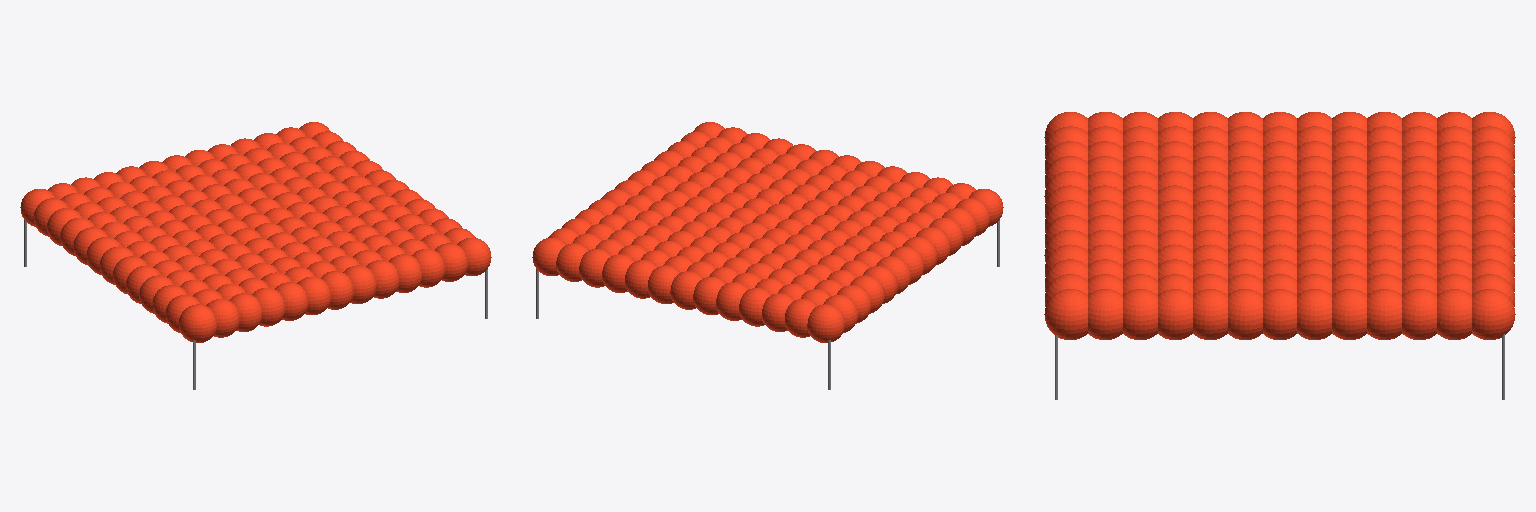
--- Facts derived from the render (not from the file) ---
Views: 3 orthographic renders of the robot side by side, from view 1: azimuth 30°, elevation 25°; view 2: azimuth 150°, elevation 25°; view 3: azimuth 270°, elevation 25°.
Robot: box — 3 links, 2 joints (2 fixed); root link link1; default pose: all joints at 0.
Links seen in each view (by area): view 1: link3; view 2: link3; view 3: link3.
Link boxes in pixels (x1,y1,x2,y2): link3: [20, 122, 491, 342]; link3: [532, 122, 1003, 342]; link3: [1044, 112, 1515, 339].
Size in the robot's own frame: 1.35 by 1.35 by 0.324 metres.
Geometry: primitives only (box / cylinder / sphere), no mesh files.

URDF robot description (box):
<?xml version="1.0" ?>
<robot name="box">

    <material name="panda_white">
        <color rgba="1. 0.87 0.68 1."/>
    </material>

    <material name="metal">
        <color rgba="0.6 0.6 0.6 1."/>
    </material>

    <material name="orangered">
        <color rgba="1 0.34 0.2 0.5"/>
    </material>


    <link name="link1">
        <inertial>
            <origin rpy="0 0 0" xyz="0 0 0"/>
            <mass value=".0"/>
            <inertia ixx="0" ixy="0" ixz="0" iyy="0" iyz="0" izz="0"/>
        </inertial>

        <visual>
            <origin rpy="0 0 0" xyz="0.0 0 0.25"/>
            <geometry>
                <box size="1.3 1.3 0.005"/>
            </geometry>
            <material name="panda_white"/>
        </visual>
    </link>

    <link name="link2">
        <inertial>
            <origin rpy="0 0 0" xyz="0 0 0"/>
            <mass value=".0"/>
            <inertia ixx="0" ixy="0" ixz="0" iyy="0" iyz="0" izz="0"/>
        </inertial>

        <visual>
            <origin rpy="0 0 0" xyz="0.64 0.64 0.125"/>
            <geometry>
                <cylinder radius="0.005" length="0.25"/>
            </geometry>
            <material name="metal"/>
        </visual>

        <visual>
            <origin rpy="0 0 0" xyz="0.64 -0.64 0.125"/>
            <geometry>
                <cylinder radius="0.005" length="0.25"/>
            </geometry>
            <material name="metal"/>
        </visual>

        <visual>
            <origin rpy="0 0 0" xyz="-0.64 0.64 0.125"/>
            <geometry>
                <cylinder radius="0.005" length="0.25"/>
            </geometry>
            <material name="metal"/>
        </visual>

        <visual>
            <origin rpy="0 0 0" xyz="-0.64 -0.64 0.125"/>
            <geometry>
                <cylinder radius="0.005" length="0.25"/>
            </geometry>
            <material name="metal"/>
        </visual>

    </link>
    

    <link name="link3">
        <inertial>
            <origin rpy="0 0 0" xyz="0 0 0"/>
            <mass value=".0"/>
            <inertia ixx="0" ixy="0" ixz="0" iyy="0" iyz="0" izz="0"/>
        </inertial>

        <visual>
            <origin rpy="0 0 0" xyz="-0.6 -0.6 0.25"/>
            <geometry>
                <sphere radius="0.074"/>
            </geometry>
            <material name="orangered"/>
        </visual>

        <visual>
            <origin rpy="0 0 0" xyz="-0.5 -0.6 0.25"/>
            <geometry>
                <sphere radius="0.074"/>
            </geometry>
            <material name="orangered"/>
        </visual>

        <visual>
            <origin rpy="0 0 0" xyz="-0.4 -0.6 0.25"/>
            <geometry>
                <sphere radius="0.074"/>
            </geometry>
            <material name="orangered"/>
        </visual>

        <visual>
            <origin rpy="0 0 0" xyz="-0.3 -0.6 0.25"/>
            <geometry>
                <sphere radius="0.074"/>
            </geometry>
            <material name="orangered"/>
        </visual>

        <visual>
            <origin rpy="0 0 0" xyz="-0.2 -0.6 0.25"/>
            <geometry>
                <sphere radius="0.074"/>
            </geometry>
            <material name="orangered"/>
        </visual>

        <visual>
            <origin rpy="0 0 0" xyz="-0.1 -0.6 0.25"/>
            <geometry>
                <sphere radius="0.074"/>
            </geometry>
            <material name="orangered"/>
        </visual>

        <visual>
            <origin rpy="0 0 0" xyz="0.0 -0.6 0.25"/>
            <geometry>
                <sphere radius="0.074"/>
            </geometry>
            <material name="orangered"/>
        </visual>

        <visual>
            <origin rpy="0 0 0" xyz="0.1 -0.6 0.25"/>
            <geometry>
                <sphere radius="0.074"/>
            </geometry>
            <material name="orangered"/>
        </visual>

        <visual>
            <origin rpy="0 0 0" xyz="0.2 -0.6 0.25"/>
            <geometry>
                <sphere radius="0.074"/>
            </geometry>
            <material name="orangered"/>
        </visual>

        <visual>
            <origin rpy="0 0 0" xyz="0.3 -0.6 0.25"/>
            <geometry>
                <sphere radius="0.074"/>
            </geometry>
            <material name="orangered"/>
        </visual>

        <visual>
            <origin rpy="0 0 0" xyz="0.4 -0.6 0.25"/>
            <geometry>
                <sphere radius="0.074"/>
            </geometry>
            <material name="orangered"/>
        </visual>

        <visual>
            <origin rpy="0 0 0" xyz="0.5 -0.6 0.25"/>
            <geometry>
                <sphere radius="0.074"/>
            </geometry>
            <material name="orangered"/>
        </visual>

        <visual>
            <origin rpy="0 0 0" xyz="0.6 -0.6 0.25"/>
            <geometry>
                <sphere radius="0.074"/>
            </geometry>
            <material name="orangered"/>
        </visual>

        <visual>
            <origin rpy="0 0 0" xyz="-0.6 -0.5 0.25"/>
            <geometry>
                <sphere radius="0.074"/>
            </geometry>
            <material name="orangered"/>
        </visual>

        <visual>
            <origin rpy="0 0 0" xyz="-0.5 -0.5 0.25"/>
            <geometry>
                <sphere radius="0.074"/>
            </geometry>
            <material name="orangered"/>
        </visual>

        <visual>
            <origin rpy="0 0 0" xyz="-0.4 -0.5 0.25"/>
            <geometry>
                <sphere radius="0.074"/>
            </geometry>
            <material name="orangered"/>
        </visual>

        <visual>
            <origin rpy="0 0 0" xyz="-0.3 -0.5 0.25"/>
            <geometry>
                <sphere radius="0.074"/>
            </geometry>
            <material name="orangered"/>
        </visual>

        <visual>
            <origin rpy="0 0 0" xyz="-0.2 -0.5 0.25"/>
            <geometry>
                <sphere radius="0.074"/>
            </geometry>
            <material name="orangered"/>
        </visual>

        <visual>
            <origin rpy="0 0 0" xyz="-0.1 -0.5 0.25"/>
            <geometry>
                <sphere radius="0.074"/>
            </geometry>
            <material name="orangered"/>
        </visual>

        <visual>
            <origin rpy="0 0 0" xyz="0.0 -0.5 0.25"/>
            <geometry>
                <sphere radius="0.074"/>
            </geometry>
            <material name="orangered"/>
        </visual>

        <visual>
            <origin rpy="0 0 0" xyz="0.1 -0.5 0.25"/>
            <geometry>
                <sphere radius="0.074"/>
            </geometry>
            <material name="orangered"/>
        </visual>

        <visual>
            <origin rpy="0 0 0" xyz="0.2 -0.5 0.25"/>
            <geometry>
                <sphere radius="0.074"/>
            </geometry>
            <material name="orangered"/>
        </visual>

        <visual>
            <origin rpy="0 0 0" xyz="0.3 -0.5 0.25"/>
            <geometry>
                <sphere radius="0.074"/>
            </geometry>
            <material name="orangered"/>
        </visual>

        <visual>
            <origin rpy="0 0 0" xyz="0.4 -0.5 0.25"/>
            <geometry>
                <sphere radius="0.074"/>
            </geometry>
            <material name="orangered"/>
        </visual>

        <visual>
            <origin rpy="0 0 0" xyz="0.5 -0.5 0.25"/>
            <geometry>
                <sphere radius="0.074"/>
            </geometry>
            <material name="orangered"/>
        </visual>

        <visual>
            <origin rpy="0 0 0" xyz="0.6 -0.5 0.25"/>
            <geometry>
                <sphere radius="0.074"/>
            </geometry>
            <material name="orangered"/>
        </visual>

        <visual>
            <origin rpy="0 0 0" xyz="-0.6 -0.4 0.25"/>
            <geometry>
                <sphere radius="0.074"/>
            </geometry>
            <material name="orangered"/>
        </visual>

        <visual>
            <origin rpy="0 0 0" xyz="-0.5 -0.4 0.25"/>
            <geometry>
                <sphere radius="0.074"/>
            </geometry>
            <material name="orangered"/>
        </visual>

        <visual>
            <origin rpy="0 0 0" xyz="-0.4 -0.4 0.25"/>
            <geometry>
                <sphere radius="0.074"/>
            </geometry>
            <material name="orangered"/>
        </visual>

        <visual>
            <origin rpy="0 0 0" xyz="-0.3 -0.4 0.25"/>
            <geometry>
                <sphere radius="0.074"/>
            </geometry>
            <material name="orangered"/>
        </visual>

        <visual>
            <origin rpy="0 0 0" xyz="-0.2 -0.4 0.25"/>
            <geometry>
                <sphere radius="0.074"/>
            </geometry>
            <material name="orangered"/>
        </visual>

        <visual>
            <origin rpy="0 0 0" xyz="-0.1 -0.4 0.25"/>
            <geometry>
                <sphere radius="0.074"/>
            </geometry>
            <material name="orangered"/>
        </visual>

        <visual>
            <origin rpy="0 0 0" xyz="0.0 -0.4 0.25"/>
            <geometry>
                <sphere radius="0.074"/>
            </geometry>
            <material name="orangered"/>
        </visual>

        <visual>
            <origin rpy="0 0 0" xyz="0.1 -0.4 0.25"/>
            <geometry>
                <sphere radius="0.074"/>
            </geometry>
            <material name="orangered"/>
        </visual>

        <visual>
            <origin rpy="0 0 0" xyz="0.2 -0.4 0.25"/>
            <geometry>
                <sphere radius="0.074"/>
            </geometry>
            <material name="orangered"/>
        </visual>

        <visual>
            <origin rpy="0 0 0" xyz="0.3 -0.4 0.25"/>
            <geometry>
                <sphere radius="0.074"/>
            </geometry>
            <material name="orangered"/>
        </visual>

        <visual>
            <origin rpy="0 0 0" xyz="0.4 -0.4 0.25"/>
            <geometry>
                <sphere radius="0.074"/>
            </geometry>
            <material name="orangered"/>
        </visual>

        <visual>
            <origin rpy="0 0 0" xyz="0.5 -0.4 0.25"/>
            <geometry>
                <sphere radius="0.074"/>
            </geometry>
            <material name="orangered"/>
        </visual>

        <visual>
            <origin rpy="0 0 0" xyz="0.6 -0.4 0.25"/>
            <geometry>
                <sphere radius="0.074"/>
            </geometry>
            <material name="orangered"/>
        </visual>

        <visual>
            <origin rpy="0 0 0" xyz="-0.6 -0.3 0.25"/>
            <geometry>
                <sphere radius="0.074"/>
            </geometry>
            <material name="orangered"/>
        </visual>

        <visual>
            <origin rpy="0 0 0" xyz="-0.5 -0.3 0.25"/>
            <geometry>
                <sphere radius="0.074"/>
            </geometry>
            <material name="orangered"/>
        </visual>

        <visual>
            <origin rpy="0 0 0" xyz="-0.4 -0.3 0.25"/>
            <geometry>
                <sphere radius="0.074"/>
            </geometry>
            <material name="orangered"/>
        </visual>

        <visual>
            <origin rpy="0 0 0" xyz="-0.3 -0.3 0.25"/>
            <geometry>
                <sphere radius="0.074"/>
            </geometry>
            <material name="orangered"/>
        </visual>

        <visual>
            <origin rpy="0 0 0" xyz="-0.2 -0.3 0.25"/>
            <geometry>
                <sphere radius="0.074"/>
            </geometry>
            <material name="orangered"/>
        </visual>

        <visual>
            <origin rpy="0 0 0" xyz="-0.1 -0.3 0.25"/>
            <geometry>
                <sphere radius="0.074"/>
            </geometry>
            <material name="orangered"/>
        </visual>

        <visual>
            <origin rpy="0 0 0" xyz="0.0 -0.3 0.25"/>
            <geometry>
                <sphere radius="0.074"/>
            </geometry>
            <material name="orangered"/>
        </visual>

        <visual>
            <origin rpy="0 0 0" xyz="0.1 -0.3 0.25"/>
            <geometry>
                <sphere radius="0.074"/>
            </geometry>
            <material name="orangered"/>
        </visual>

        <visual>
            <origin rpy="0 0 0" xyz="0.2 -0.3 0.25"/>
            <geometry>
                <sphere radius="0.074"/>
            </geometry>
            <material name="orangered"/>
        </visual>

        <visual>
            <origin rpy="0 0 0" xyz="0.3 -0.3 0.25"/>
            <geometry>
                <sphere radius="0.074"/>
            </geometry>
            <material name="orangered"/>
        </visual>

        <visual>
            <origin rpy="0 0 0" xyz="0.4 -0.3 0.25"/>
            <geometry>
                <sphere radius="0.074"/>
            </geometry>
            <material name="orangered"/>
        </visual>

        <visual>
            <origin rpy="0 0 0" xyz="0.5 -0.3 0.25"/>
            <geometry>
                <sphere radius="0.074"/>
            </geometry>
            <material name="orangered"/>
        </visual>

        <visual>
            <origin rpy="0 0 0" xyz="0.6 -0.3 0.25"/>
            <geometry>
                <sphere radius="0.074"/>
            </geometry>
            <material name="orangered"/>
        </visual>

        <visual>
            <origin rpy="0 0 0" xyz="-0.6 -0.2 0.25"/>
            <geometry>
                <sphere radius="0.074"/>
            </geometry>
            <material name="orangered"/>
        </visual>

        <visual>
            <origin rpy="0 0 0" xyz="-0.5 -0.2 0.25"/>
            <geometry>
                <sphere radius="0.074"/>
            </geometry>
            <material name="orangered"/>
        </visual>

        <visual>
            <origin rpy="0 0 0" xyz="-0.4 -0.2 0.25"/>
            <geometry>
                <sphere radius="0.074"/>
            </geometry>
            <material name="orangered"/>
        </visual>

        <visual>
            <origin rpy="0 0 0" xyz="-0.3 -0.2 0.25"/>
            <geometry>
                <sphere radius="0.074"/>
            </geometry>
            <material name="orangered"/>
        </visual>

        <visual>
            <origin rpy="0 0 0" xyz="-0.2 -0.2 0.25"/>
            <geometry>
                <sphere radius="0.074"/>
            </geometry>
            <material name="orangered"/>
        </visual>

        <visual>
            <origin rpy="0 0 0" xyz="-0.1 -0.2 0.25"/>
            <geometry>
                <sphere radius="0.074"/>
            </geometry>
            <material name="orangered"/>
        </visual>

        <visual>
            <origin rpy="0 0 0" xyz="0.0 -0.2 0.25"/>
            <geometry>
                <sphere radius="0.074"/>
            </geometry>
            <material name="orangered"/>
        </visual>

        <visual>
            <origin rpy="0 0 0" xyz="0.1 -0.2 0.25"/>
            <geometry>
                <sphere radius="0.074"/>
            </geometry>
            <material name="orangered"/>
        </visual>

        <visual>
            <origin rpy="0 0 0" xyz="0.2 -0.2 0.25"/>
            <geometry>
                <sphere radius="0.074"/>
            </geometry>
            <material name="orangered"/>
        </visual>

        <visual>
            <origin rpy="0 0 0" xyz="0.3 -0.2 0.25"/>
            <geometry>
                <sphere radius="0.074"/>
            </geometry>
            <material name="orangered"/>
        </visual>

        <visual>
            <origin rpy="0 0 0" xyz="0.4 -0.2 0.25"/>
            <geometry>
                <sphere radius="0.074"/>
            </geometry>
            <material name="orangered"/>
        </visual>

        <visual>
            <origin rpy="0 0 0" xyz="0.5 -0.2 0.25"/>
            <geometry>
                <sphere radius="0.074"/>
            </geometry>
            <material name="orangered"/>
        </visual>

        <visual>
            <origin rpy="0 0 0" xyz="0.6 -0.2 0.25"/>
            <geometry>
                <sphere radius="0.074"/>
            </geometry>
            <material name="orangered"/>
        </visual>

        <visual>
            <origin rpy="0 0 0" xyz="-0.6 -0.1 0.25"/>
            <geometry>
                <sphere radius="0.074"/>
            </geometry>
            <material name="orangered"/>
        </visual>

        <visual>
            <origin rpy="0 0 0" xyz="-0.5 -0.1 0.25"/>
            <geometry>
                <sphere radius="0.074"/>
            </geometry>
            <material name="orangered"/>
        </visual>

        <visual>
            <origin rpy="0 0 0" xyz="-0.4 -0.1 0.25"/>
            <geometry>
                <sphere radius="0.074"/>
            </geometry>
            <material name="orangered"/>
        </visual>

        <visual>
            <origin rpy="0 0 0" xyz="-0.3 -0.1 0.25"/>
            <geometry>
                <sphere radius="0.074"/>
            </geometry>
            <material name="orangered"/>
        </visual>

        <visual>
            <origin rpy="0 0 0" xyz="-0.2 -0.1 0.25"/>
            <geometry>
                <sphere radius="0.074"/>
            </geometry>
            <material name="orangered"/>
        </visual>

        <visual>
            <origin rpy="0 0 0" xyz="-0.1 -0.1 0.25"/>
            <geometry>
                <sphere radius="0.074"/>
            </geometry>
            <material name="orangered"/>
        </visual>

        <visual>
            <origin rpy="0 0 0" xyz="0.0 -0.1 0.25"/>
            <geometry>
                <sphere radius="0.074"/>
            </geometry>
            <material name="orangered"/>
        </visual>

        <visual>
            <origin rpy="0 0 0" xyz="0.1 -0.1 0.25"/>
            <geometry>
                <sphere radius="0.074"/>
            </geometry>
            <material name="orangered"/>
        </visual>

        <visual>
            <origin rpy="0 0 0" xyz="0.2 -0.1 0.25"/>
            <geometry>
                <sphere radius="0.074"/>
            </geometry>
            <material name="orangered"/>
        </visual>

        <visual>
            <origin rpy="0 0 0" xyz="0.3 -0.1 0.25"/>
            <geometry>
                <sphere radius="0.074"/>
            </geometry>
            <material name="orangered"/>
        </visual>

        <visual>
            <origin rpy="0 0 0" xyz="0.4 -0.1 0.25"/>
            <geometry>
                <sphere radius="0.074"/>
            </geometry>
            <material name="orangered"/>
        </visual>

        <visual>
            <origin rpy="0 0 0" xyz="0.5 -0.1 0.25"/>
            <geometry>
                <sphere radius="0.074"/>
            </geometry>
            <material name="orangered"/>
        </visual>

        <visual>
            <origin rpy="0 0 0" xyz="0.6 -0.1 0.25"/>
            <geometry>
                <sphere radius="0.074"/>
            </geometry>
            <material name="orangered"/>
        </visual>

        <visual>
            <origin rpy="0 0 0" xyz="-0.6 0.0 0.25"/>
            <geometry>
                <sphere radius="0.074"/>
            </geometry>
            <material name="orangered"/>
        </visual>

        <visual>
            <origin rpy="0 0 0" xyz="-0.5 0.0 0.25"/>
            <geometry>
                <sphere radius="0.074"/>
            </geometry>
            <material name="orangered"/>
        </visual>

        <visual>
            <origin rpy="0 0 0" xyz="-0.4 0.0 0.25"/>
            <geometry>
                <sphere radius="0.074"/>
            </geometry>
            <material name="orangered"/>
        </visual>

        <visual>
            <origin rpy="0 0 0" xyz="-0.3 0.0 0.25"/>
            <geometry>
                <sphere radius="0.074"/>
            </geometry>
            <material name="orangered"/>
        </visual>

        <visual>
            <origin rpy="0 0 0" xyz="-0.2 0.0 0.25"/>
            <geometry>
                <sphere radius="0.074"/>
            </geometry>
            <material name="orangered"/>
        </visual>

        <visual>
            <origin rpy="0 0 0" xyz="-0.1 0.0 0.25"/>
            <geometry>
                <sphere radius="0.074"/>
            </geometry>
            <material name="orangered"/>
        </visual>

        <visual>
            <origin rpy="0 0 0" xyz="0.0 0.0 0.25"/>
            <geometry>
                <sphere radius="0.074"/>
            </geometry>
            <material name="orangered"/>
        </visual>

        <visual>
            <origin rpy="0 0 0" xyz="0.1 0.0 0.25"/>
            <geometry>
                <sphere radius="0.074"/>
            </geometry>
            <material name="orangered"/>
        </visual>

        <visual>
            <origin rpy="0 0 0" xyz="0.2 0.0 0.25"/>
            <geometry>
                <sphere radius="0.074"/>
            </geometry>
            <material name="orangered"/>
        </visual>

        <visual>
            <origin rpy="0 0 0" xyz="0.3 0.0 0.25"/>
            <geometry>
                <sphere radius="0.074"/>
            </geometry>
            <material name="orangered"/>
        </visual>

        <visual>
            <origin rpy="0 0 0" xyz="0.4 0.0 0.25"/>
            <geometry>
                <sphere radius="0.074"/>
            </geometry>
            <material name="orangered"/>
        </visual>

        <visual>
            <origin rpy="0 0 0" xyz="0.5 0.0 0.25"/>
            <geometry>
                <sphere radius="0.074"/>
            </geometry>
            <material name="orangered"/>
        </visual>

        <visual>
            <origin rpy="0 0 0" xyz="0.6 0.0 0.25"/>
            <geometry>
                <sphere radius="0.074"/>
            </geometry>
            <material name="orangered"/>
        </visual>

        <visual>
            <origin rpy="0 0 0" xyz="-0.6 0.1 0.25"/>
            <geometry>
                <sphere radius="0.074"/>
            </geometry>
            <material name="orangered"/>
        </visual>

        <visual>
            <origin rpy="0 0 0" xyz="-0.5 0.1 0.25"/>
            <geometry>
                <sphere radius="0.074"/>
            </geometry>
            <material name="orangered"/>
        </visual>

        <visual>
            <origin rpy="0 0 0" xyz="-0.4 0.1 0.25"/>
            <geometry>
                <sphere radius="0.074"/>
            </geometry>
            <material name="orangered"/>
        </visual>

        <visual>
            <origin rpy="0 0 0" xyz="-0.3 0.1 0.25"/>
            <geometry>
                <sphere radius="0.074"/>
            </geometry>
            <material name="orangered"/>
        </visual>

        <visual>
            <origin rpy="0 0 0" xyz="-0.2 0.1 0.25"/>
            <geometry>
                <sphere radius="0.074"/>
            </geometry>
            <material name="orangered"/>
        </visual>

        <visual>
            <origin rpy="0 0 0" xyz="-0.1 0.1 0.25"/>
            <geometry>
                <sphere radius="0.074"/>
            </geometry>
            <material name="orangered"/>
        </visual>

        <visual>
            <origin rpy="0 0 0" xyz="0.0 0.1 0.25"/>
            <geometry>
                <sphere radius="0.074"/>
            </geometry>
            <material name="orangered"/>
        </visual>

        <visual>
            <origin rpy="0 0 0" xyz="0.1 0.1 0.25"/>
            <geometry>
                <sphere radius="0.074"/>
            </geometry>
            <material name="orangered"/>
        </visual>

        <visual>
            <origin rpy="0 0 0" xyz="0.2 0.1 0.25"/>
            <geometry>
                <sphere radius="0.074"/>
            </geometry>
            <material name="orangered"/>
        </visual>

        <visual>
            <origin rpy="0 0 0" xyz="0.3 0.1 0.25"/>
            <geometry>
                <sphere radius="0.074"/>
            </geometry>
            <material name="orangered"/>
        </visual>

        <visual>
            <origin rpy="0 0 0" xyz="0.4 0.1 0.25"/>
            <geometry>
                <sphere radius="0.074"/>
            </geometry>
            <material name="orangered"/>
        </visual>

        <visual>
            <origin rpy="0 0 0" xyz="0.5 0.1 0.25"/>
            <geometry>
                <sphere radius="0.074"/>
            </geometry>
            <material name="orangered"/>
        </visual>

        <visual>
            <origin rpy="0 0 0" xyz="0.6 0.1 0.25"/>
            <geometry>
                <sphere radius="0.074"/>
            </geometry>
            <material name="orangered"/>
        </visual>

        <visual>
            <origin rpy="0 0 0" xyz="-0.6 0.2 0.25"/>
            <geometry>
                <sphere radius="0.074"/>
            </geometry>
            <material name="orangered"/>
        </visual>

        <visual>
            <origin rpy="0 0 0" xyz="-0.5 0.2 0.25"/>
            <geometry>
                <sphere radius="0.074"/>
            </geometry>
            <material name="orangered"/>
        </visual>

        <visual>
            <origin rpy="0 0 0" xyz="-0.4 0.2 0.25"/>
            <geometry>
                <sphere radius="0.074"/>
            </geometry>
            <material name="orangered"/>
        </visual>

        <visual>
            <origin rpy="0 0 0" xyz="-0.3 0.2 0.25"/>
            <geometry>
                <sphere radius="0.074"/>
            </geometry>
            <material name="orangered"/>
        </visual>

        <visual>
            <origin rpy="0 0 0" xyz="-0.2 0.2 0.25"/>
            <geometry>
                <sphere radius="0.074"/>
            </geometry>
            <material name="orangered"/>
        </visual>

        <visual>
            <origin rpy="0 0 0" xyz="-0.1 0.2 0.25"/>
            <geometry>
                <sphere radius="0.074"/>
            </geometry>
            <material name="orangered"/>
        </visual>

        <visual>
            <origin rpy="0 0 0" xyz="0.0 0.2 0.25"/>
            <geometry>
                <sphere radius="0.074"/>
            </geometry>
            <material name="orangered"/>
        </visual>

        <visual>
            <origin rpy="0 0 0" xyz="0.1 0.2 0.25"/>
            <geometry>
                <sphere radius="0.074"/>
            </geometry>
            <material name="orangered"/>
        </visual>

        <visual>
            <origin rpy="0 0 0" xyz="0.2 0.2 0.25"/>
            <geometry>
                <sphere radius="0.074"/>
            </geometry>
            <material name="orangered"/>
        </visual>

        <visual>
            <origin rpy="0 0 0" xyz="0.3 0.2 0.25"/>
            <geometry>
                <sphere radius="0.074"/>
            </geometry>
            <material name="orangered"/>
        </visual>

        <visual>
            <origin rpy="0 0 0" xyz="0.4 0.2 0.25"/>
            <geometry>
                <sphere radius="0.074"/>
            </geometry>
            <material name="orangered"/>
        </visual>

        <visual>
            <origin rpy="0 0 0" xyz="0.5 0.2 0.25"/>
            <geometry>
                <sphere radius="0.074"/>
            </geometry>
            <material name="orangered"/>
        </visual>

        <visual>
            <origin rpy="0 0 0" xyz="0.6 0.2 0.25"/>
            <geometry>
                <sphere radius="0.074"/>
            </geometry>
            <material name="orangered"/>
        </visual>

        <visual>
            <origin rpy="0 0 0" xyz="-0.6 0.3 0.25"/>
            <geometry>
                <sphere radius="0.074"/>
            </geometry>
            <material name="orangered"/>
        </visual>

        <visual>
            <origin rpy="0 0 0" xyz="-0.5 0.3 0.25"/>
            <geometry>
                <sphere radius="0.074"/>
            </geometry>
            <material name="orangered"/>
        </visual>

        <visual>
            <origin rpy="0 0 0" xyz="-0.4 0.3 0.25"/>
            <geometry>
                <sphere radius="0.074"/>
            </geometry>
            <material name="orangered"/>
        </visual>

        <visual>
            <origin rpy="0 0 0" xyz="-0.3 0.3 0.25"/>
            <geometry>
                <sphere radius="0.074"/>
            </geometry>
            <material name="orangered"/>
        </visual>

        <visual>
            <origin rpy="0 0 0" xyz="-0.2 0.3 0.25"/>
            <geometry>
                <sphere radius="0.074"/>
            </geometry>
            <material name="orangered"/>
        </visual>

        <visual>
            <origin rpy="0 0 0" xyz="-0.1 0.3 0.25"/>
            <geometry>
                <sphere radius="0.074"/>
            </geometry>
            <material name="orangered"/>
        </visual>

        <visual>
            <origin rpy="0 0 0" xyz="0.0 0.3 0.25"/>
            <geometry>
                <sphere radius="0.074"/>
            </geometry>
            <material name="orangered"/>
        </visual>

        <visual>
            <origin rpy="0 0 0" xyz="0.1 0.3 0.25"/>
            <geometry>
                <sphere radius="0.074"/>
            </geometry>
            <material name="orangered"/>
        </visual>

        <visual>
            <origin rpy="0 0 0" xyz="0.2 0.3 0.25"/>
            <geometry>
                <sphere radius="0.074"/>
            </geometry>
            <material name="orangered"/>
        </visual>

        <visual>
            <origin rpy="0 0 0" xyz="0.3 0.3 0.25"/>
            <geometry>
                <sphere radius="0.074"/>
            </geometry>
            <material name="orangered"/>
        </visual>

        <visual>
            <origin rpy="0 0 0" xyz="0.4 0.3 0.25"/>
            <geometry>
                <sphere radius="0.074"/>
            </geometry>
            <material name="orangered"/>
        </visual>

        <visual>
            <origin rpy="0 0 0" xyz="0.5 0.3 0.25"/>
            <geometry>
                <sphere radius="0.074"/>
            </geometry>
            <material name="orangered"/>
        </visual>

        <visual>
            <origin rpy="0 0 0" xyz="0.6 0.3 0.25"/>
            <geometry>
                <sphere radius="0.074"/>
            </geometry>
            <material name="orangered"/>
        </visual>

        <visual>
            <origin rpy="0 0 0" xyz="-0.6 0.4 0.25"/>
            <geometry>
                <sphere radius="0.074"/>
            </geometry>
            <material name="orangered"/>
        </visual>

        <visual>
            <origin rpy="0 0 0" xyz="-0.5 0.4 0.25"/>
            <geometry>
                <sphere radius="0.074"/>
            </geometry>
            <material name="orangered"/>
        </visual>

        <visual>
            <origin rpy="0 0 0" xyz="-0.4 0.4 0.25"/>
            <geometry>
                <sphere radius="0.074"/>
            </geometry>
            <material name="orangered"/>
        </visual>

        <visual>
            <origin rpy="0 0 0" xyz="-0.3 0.4 0.25"/>
            <geometry>
                <sphere radius="0.074"/>
            </geometry>
            <material name="orangered"/>
        </visual>

        <visual>
            <origin rpy="0 0 0" xyz="-0.2 0.4 0.25"/>
            <geometry>
                <sphere radius="0.074"/>
            </geometry>
            <material name="orangered"/>
        </visual>

        <visual>
            <origin rpy="0 0 0" xyz="-0.1 0.4 0.25"/>
            <geometry>
                <sphere radius="0.074"/>
            </geometry>
            <material name="orangered"/>
        </visual>

        <visual>
            <origin rpy="0 0 0" xyz="0.0 0.4 0.25"/>
            <geometry>
                <sphere radius="0.074"/>
            </geometry>
            <material name="orangered"/>
        </visual>

        <visual>
            <origin rpy="0 0 0" xyz="0.1 0.4 0.25"/>
            <geometry>
                <sphere radius="0.074"/>
            </geometry>
            <material name="orangered"/>
        </visual>

        <visual>
            <origin rpy="0 0 0" xyz="0.2 0.4 0.25"/>
            <geometry>
                <sphere radius="0.074"/>
            </geometry>
            <material name="orangered"/>
        </visual>

        <visual>
            <origin rpy="0 0 0" xyz="0.3 0.4 0.25"/>
            <geometry>
                <sphere radius="0.074"/>
            </geometry>
            <material name="orangered"/>
        </visual>

        <visual>
            <origin rpy="0 0 0" xyz="0.4 0.4 0.25"/>
            <geometry>
                <sphere radius="0.074"/>
            </geometry>
            <material name="orangered"/>
        </visual>

        <visual>
            <origin rpy="0 0 0" xyz="0.5 0.4 0.25"/>
            <geometry>
                <sphere radius="0.074"/>
            </geometry>
            <material name="orangered"/>
        </visual>

        <visual>
            <origin rpy="0 0 0" xyz="0.6 0.4 0.25"/>
            <geometry>
                <sphere radius="0.074"/>
            </geometry>
            <material name="orangered"/>
        </visual>

        <visual>
            <origin rpy="0 0 0" xyz="-0.6 0.5 0.25"/>
            <geometry>
                <sphere radius="0.074"/>
            </geometry>
            <material name="orangered"/>
        </visual>

        <visual>
            <origin rpy="0 0 0" xyz="-0.5 0.5 0.25"/>
            <geometry>
                <sphere radius="0.074"/>
            </geometry>
            <material name="orangered"/>
        </visual>

        <visual>
            <origin rpy="0 0 0" xyz="-0.4 0.5 0.25"/>
            <geometry>
                <sphere radius="0.074"/>
            </geometry>
            <material name="orangered"/>
        </visual>

        <visual>
            <origin rpy="0 0 0" xyz="-0.3 0.5 0.25"/>
            <geometry>
                <sphere radius="0.074"/>
            </geometry>
            <material name="orangered"/>
        </visual>

        <visual>
            <origin rpy="0 0 0" xyz="-0.2 0.5 0.25"/>
            <geometry>
                <sphere radius="0.074"/>
            </geometry>
            <material name="orangered"/>
        </visual>

        <visual>
            <origin rpy="0 0 0" xyz="-0.1 0.5 0.25"/>
            <geometry>
                <sphere radius="0.074"/>
            </geometry>
            <material name="orangered"/>
        </visual>

        <visual>
            <origin rpy="0 0 0" xyz="0.0 0.5 0.25"/>
            <geometry>
                <sphere radius="0.074"/>
            </geometry>
            <material name="orangered"/>
        </visual>

        <visual>
            <origin rpy="0 0 0" xyz="0.1 0.5 0.25"/>
            <geometry>
                <sphere radius="0.074"/>
            </geometry>
            <material name="orangered"/>
        </visual>

        <visual>
            <origin rpy="0 0 0" xyz="0.2 0.5 0.25"/>
            <geometry>
                <sphere radius="0.074"/>
            </geometry>
            <material name="orangered"/>
        </visual>

        <visual>
            <origin rpy="0 0 0" xyz="0.3 0.5 0.25"/>
            <geometry>
                <sphere radius="0.074"/>
            </geometry>
            <material name="orangered"/>
        </visual>

        <visual>
            <origin rpy="0 0 0" xyz="0.4 0.5 0.25"/>
            <geometry>
                <sphere radius="0.074"/>
            </geometry>
            <material name="orangered"/>
        </visual>

        <visual>
            <origin rpy="0 0 0" xyz="0.5 0.5 0.25"/>
            <geometry>
                <sphere radius="0.074"/>
            </geometry>
            <material name="orangered"/>
        </visual>

        <visual>
            <origin rpy="0 0 0" xyz="0.6 0.5 0.25"/>
            <geometry>
                <sphere radius="0.074"/>
            </geometry>
            <material name="orangered"/>
        </visual>

        <visual>
            <origin rpy="0 0 0" xyz="-0.6 0.6 0.25"/>
            <geometry>
                <sphere radius="0.074"/>
            </geometry>
            <material name="orangered"/>
        </visual>

        <visual>
            <origin rpy="0 0 0" xyz="-0.5 0.6 0.25"/>
            <geometry>
                <sphere radius="0.074"/>
            </geometry>
            <material name="orangered"/>
        </visual>

        <visual>
            <origin rpy="0 0 0" xyz="-0.4 0.6 0.25"/>
            <geometry>
                <sphere radius="0.074"/>
            </geometry>
            <material name="orangered"/>
        </visual>

        <visual>
            <origin rpy="0 0 0" xyz="-0.3 0.6 0.25"/>
            <geometry>
                <sphere radius="0.074"/>
            </geometry>
            <material name="orangered"/>
        </visual>

        <visual>
            <origin rpy="0 0 0" xyz="-0.2 0.6 0.25"/>
            <geometry>
                <sphere radius="0.074"/>
            </geometry>
            <material name="orangered"/>
        </visual>

        <visual>
            <origin rpy="0 0 0" xyz="-0.1 0.6 0.25"/>
            <geometry>
                <sphere radius="0.074"/>
            </geometry>
            <material name="orangered"/>
        </visual>

        <visual>
            <origin rpy="0 0 0" xyz="0.0 0.6 0.25"/>
            <geometry>
                <sphere radius="0.074"/>
            </geometry>
            <material name="orangered"/>
        </visual>

        <visual>
            <origin rpy="0 0 0" xyz="0.1 0.6 0.25"/>
            <geometry>
                <sphere radius="0.074"/>
            </geometry>
            <material name="orangered"/>
        </visual>

        <visual>
            <origin rpy="0 0 0" xyz="0.2 0.6 0.25"/>
            <geometry>
                <sphere radius="0.074"/>
            </geometry>
            <material name="orangered"/>
        </visual>

        <visual>
            <origin rpy="0 0 0" xyz="0.3 0.6 0.25"/>
            <geometry>
                <sphere radius="0.074"/>
            </geometry>
            <material name="orangered"/>
        </visual>

        <visual>
            <origin rpy="0 0 0" xyz="0.4 0.6 0.25"/>
            <geometry>
                <sphere radius="0.074"/>
            </geometry>
            <material name="orangered"/>
        </visual>

        <visual>
            <origin rpy="0 0 0" xyz="0.5 0.6 0.25"/>
            <geometry>
                <sphere radius="0.074"/>
            </geometry>
            <material name="orangered"/>
        </visual>

        <visual>
            <origin rpy="0 0 0" xyz="0.6 0.6 0.25"/>
            <geometry>
                <sphere radius="0.074"/>
            </geometry>
            <material name="orangered"/>
        </visual>

    </link>
    

    <joint name="fixed_joint" type="fixed">
        <parent link="link1"/>
        <child link="link2"/>
        <origin xyz="0 0 0" rpy="0 0 0"/>
    </joint>

    <joint name="fixed_joint2" type="fixed">
        <parent link="link1"/>
        <child link="link3"/>
        <origin xyz="0 0 0" rpy="0 0 0"/>
    </joint>
    

</robot>
